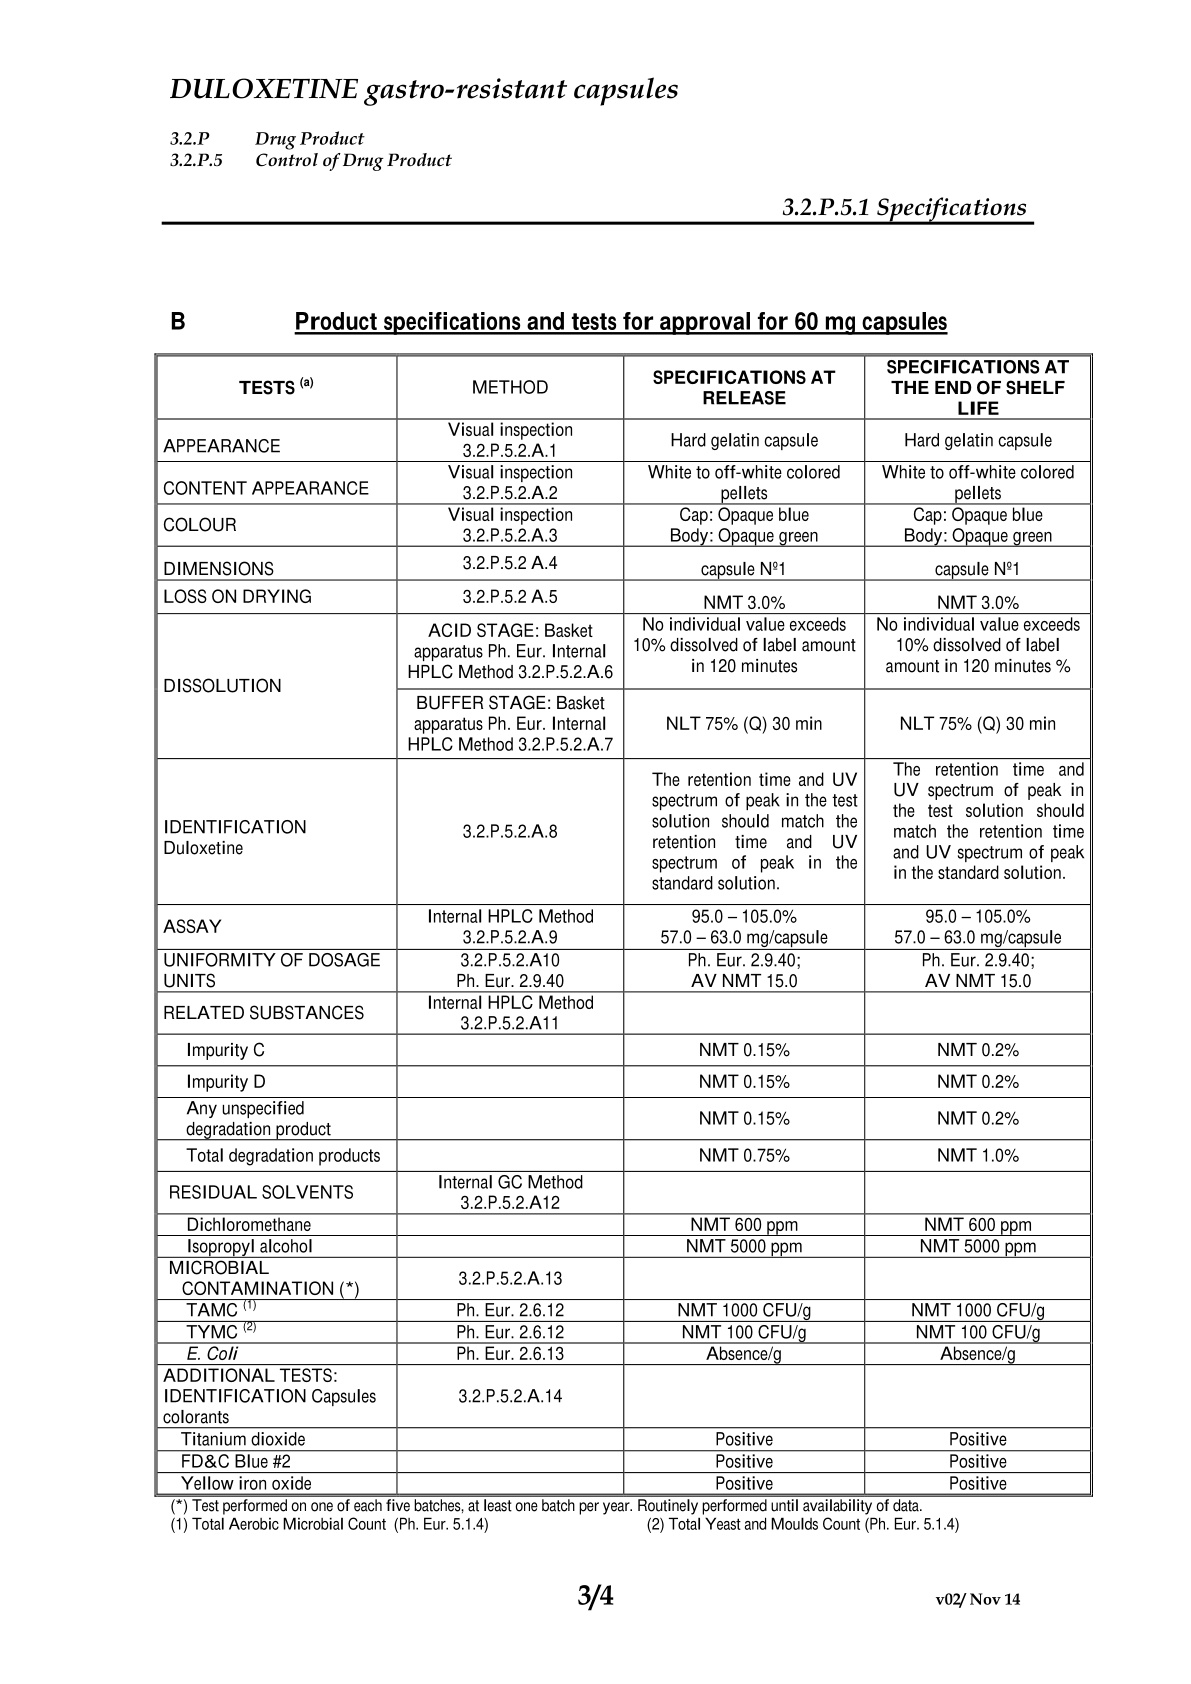full_lined: (153, 352, 1093, 1497)
